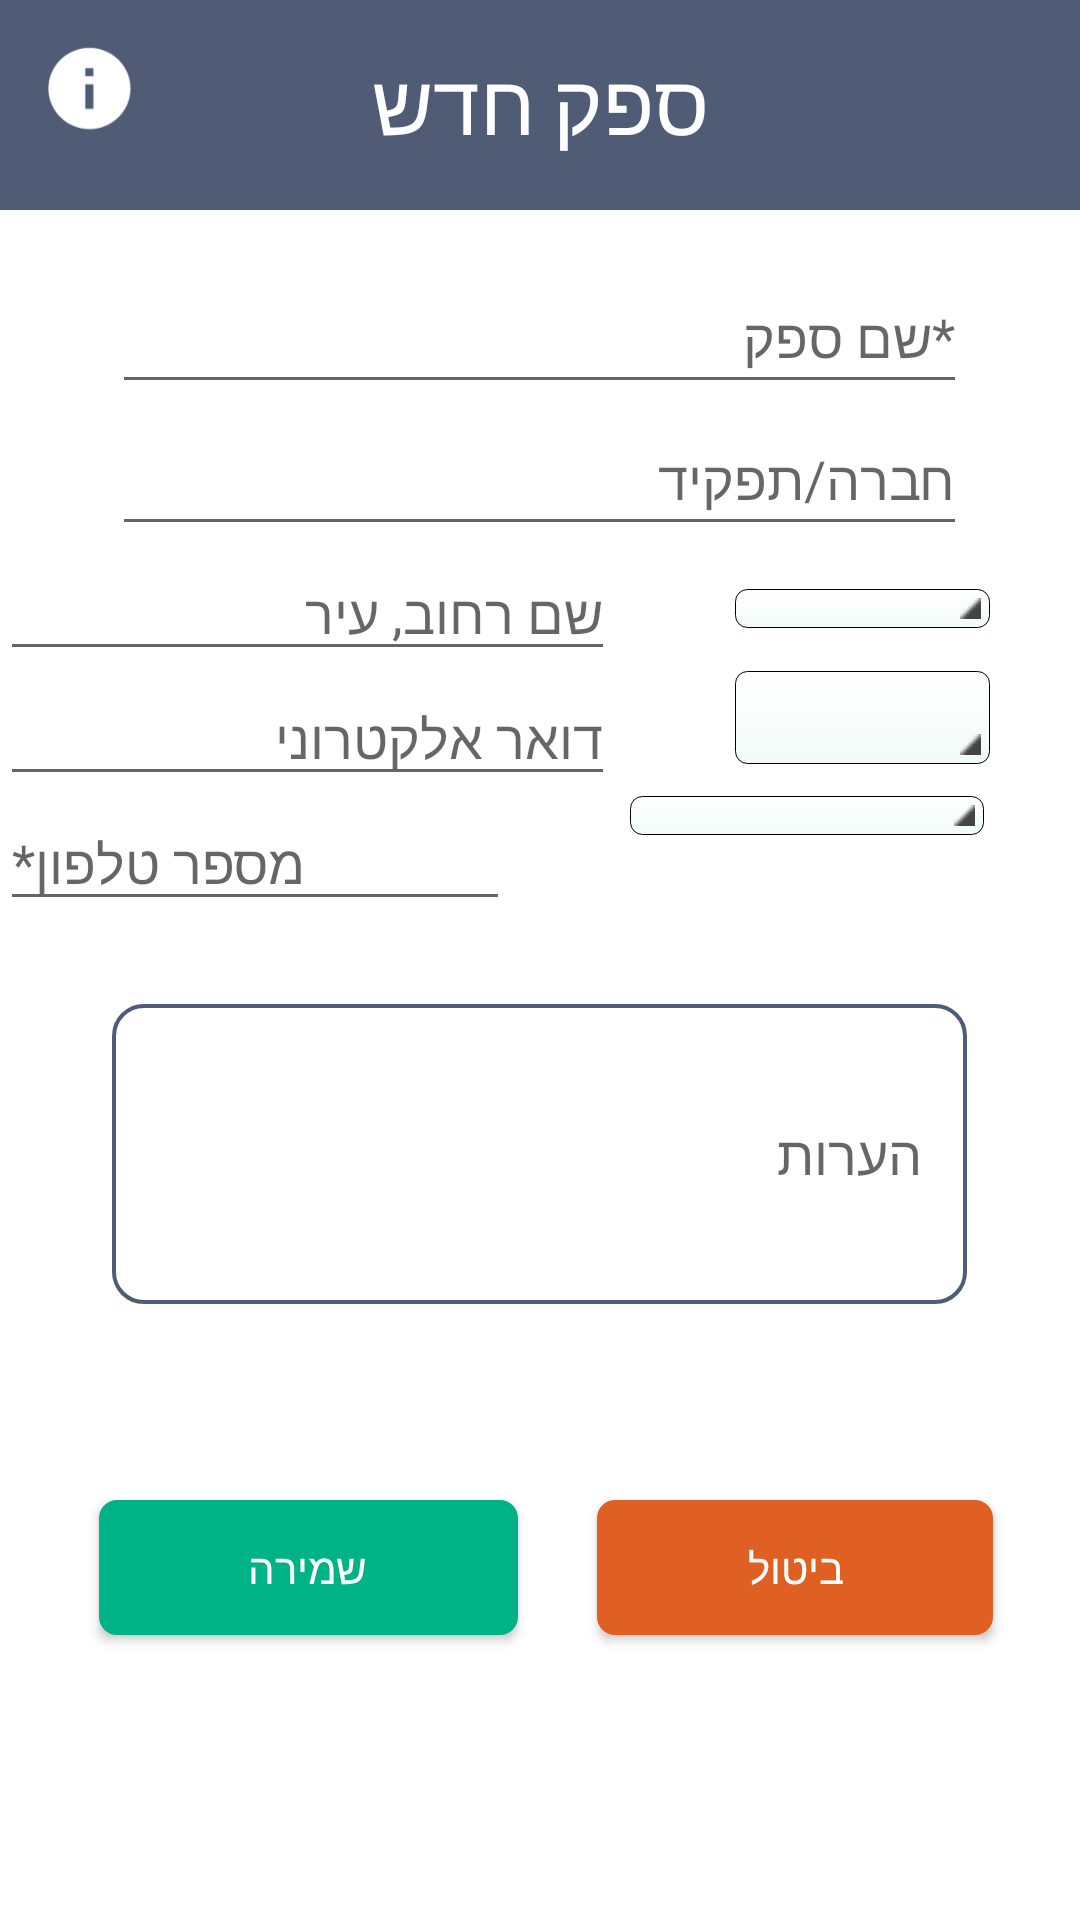

Where icons sit on this 1080w x 1920h app screen, as (x1, y1, x2, y2):
infor: (48, 47, 131, 130)
